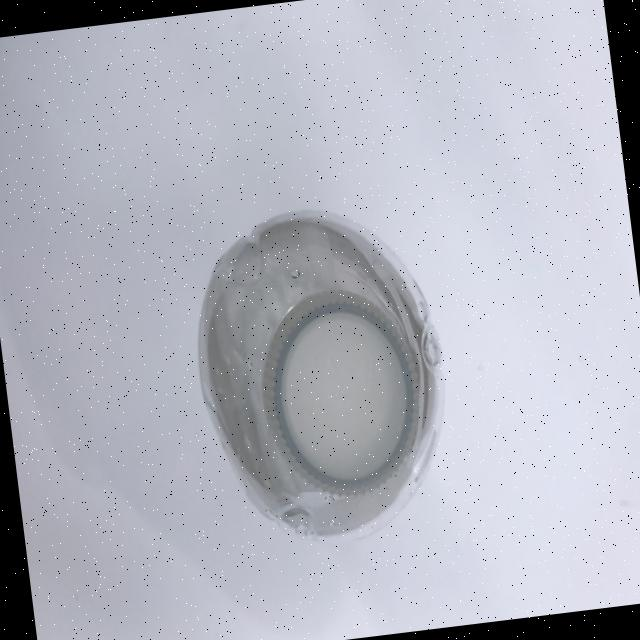plastic: (180, 192, 463, 554)
